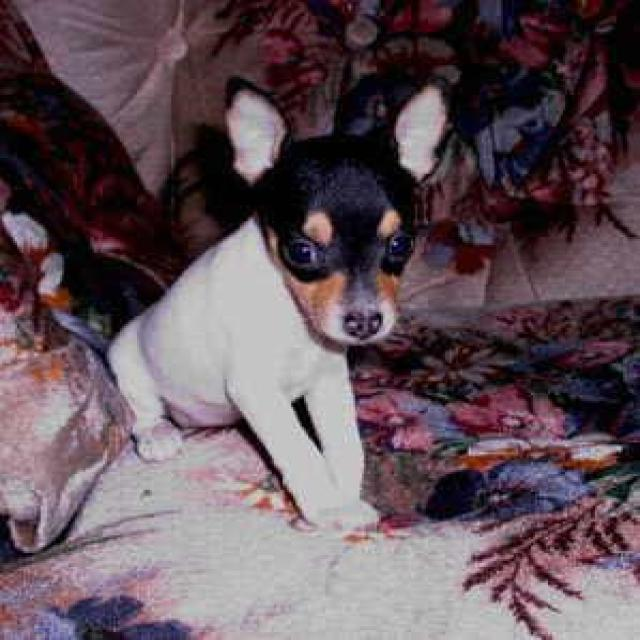toy_terrier: (107, 79, 452, 531)
